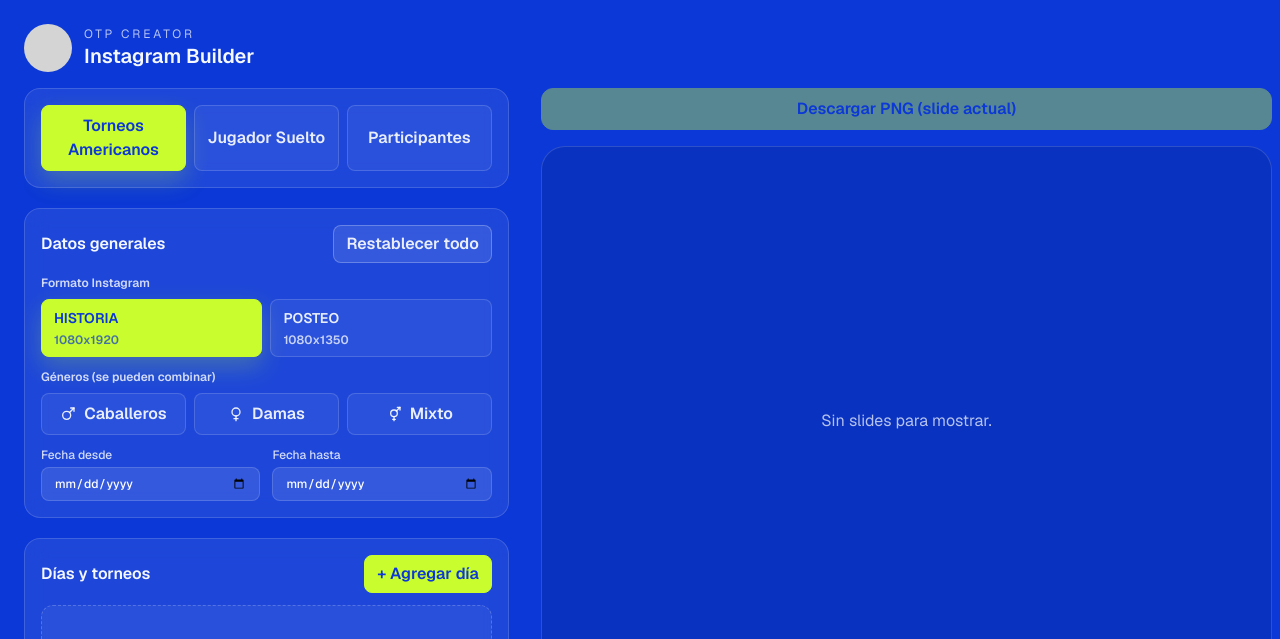
Scenario: PostBuilder › permite cambiar al modo Participantes y renderiza su formulario
The width and height of the screenshot is (1280, 639).
Click the button "Participantes".
click(419, 138)  # box top-left (347, 105), bottom-right (492, 171)
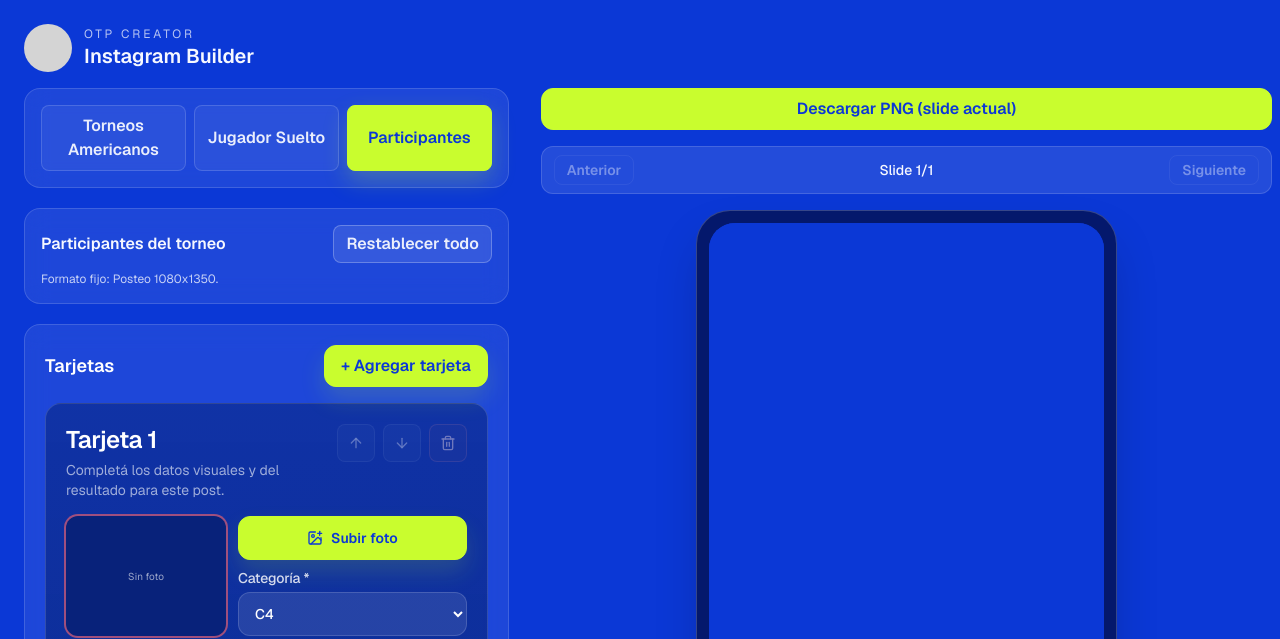
Expected: the text "Formato fijo: Posteo 1080x1350." is shown, top-left (41, 271), bottom-right (218, 287)
Expected: the heading "Tarjeta 1" is shown, top-left (66, 424), bottom-right (157, 455)
